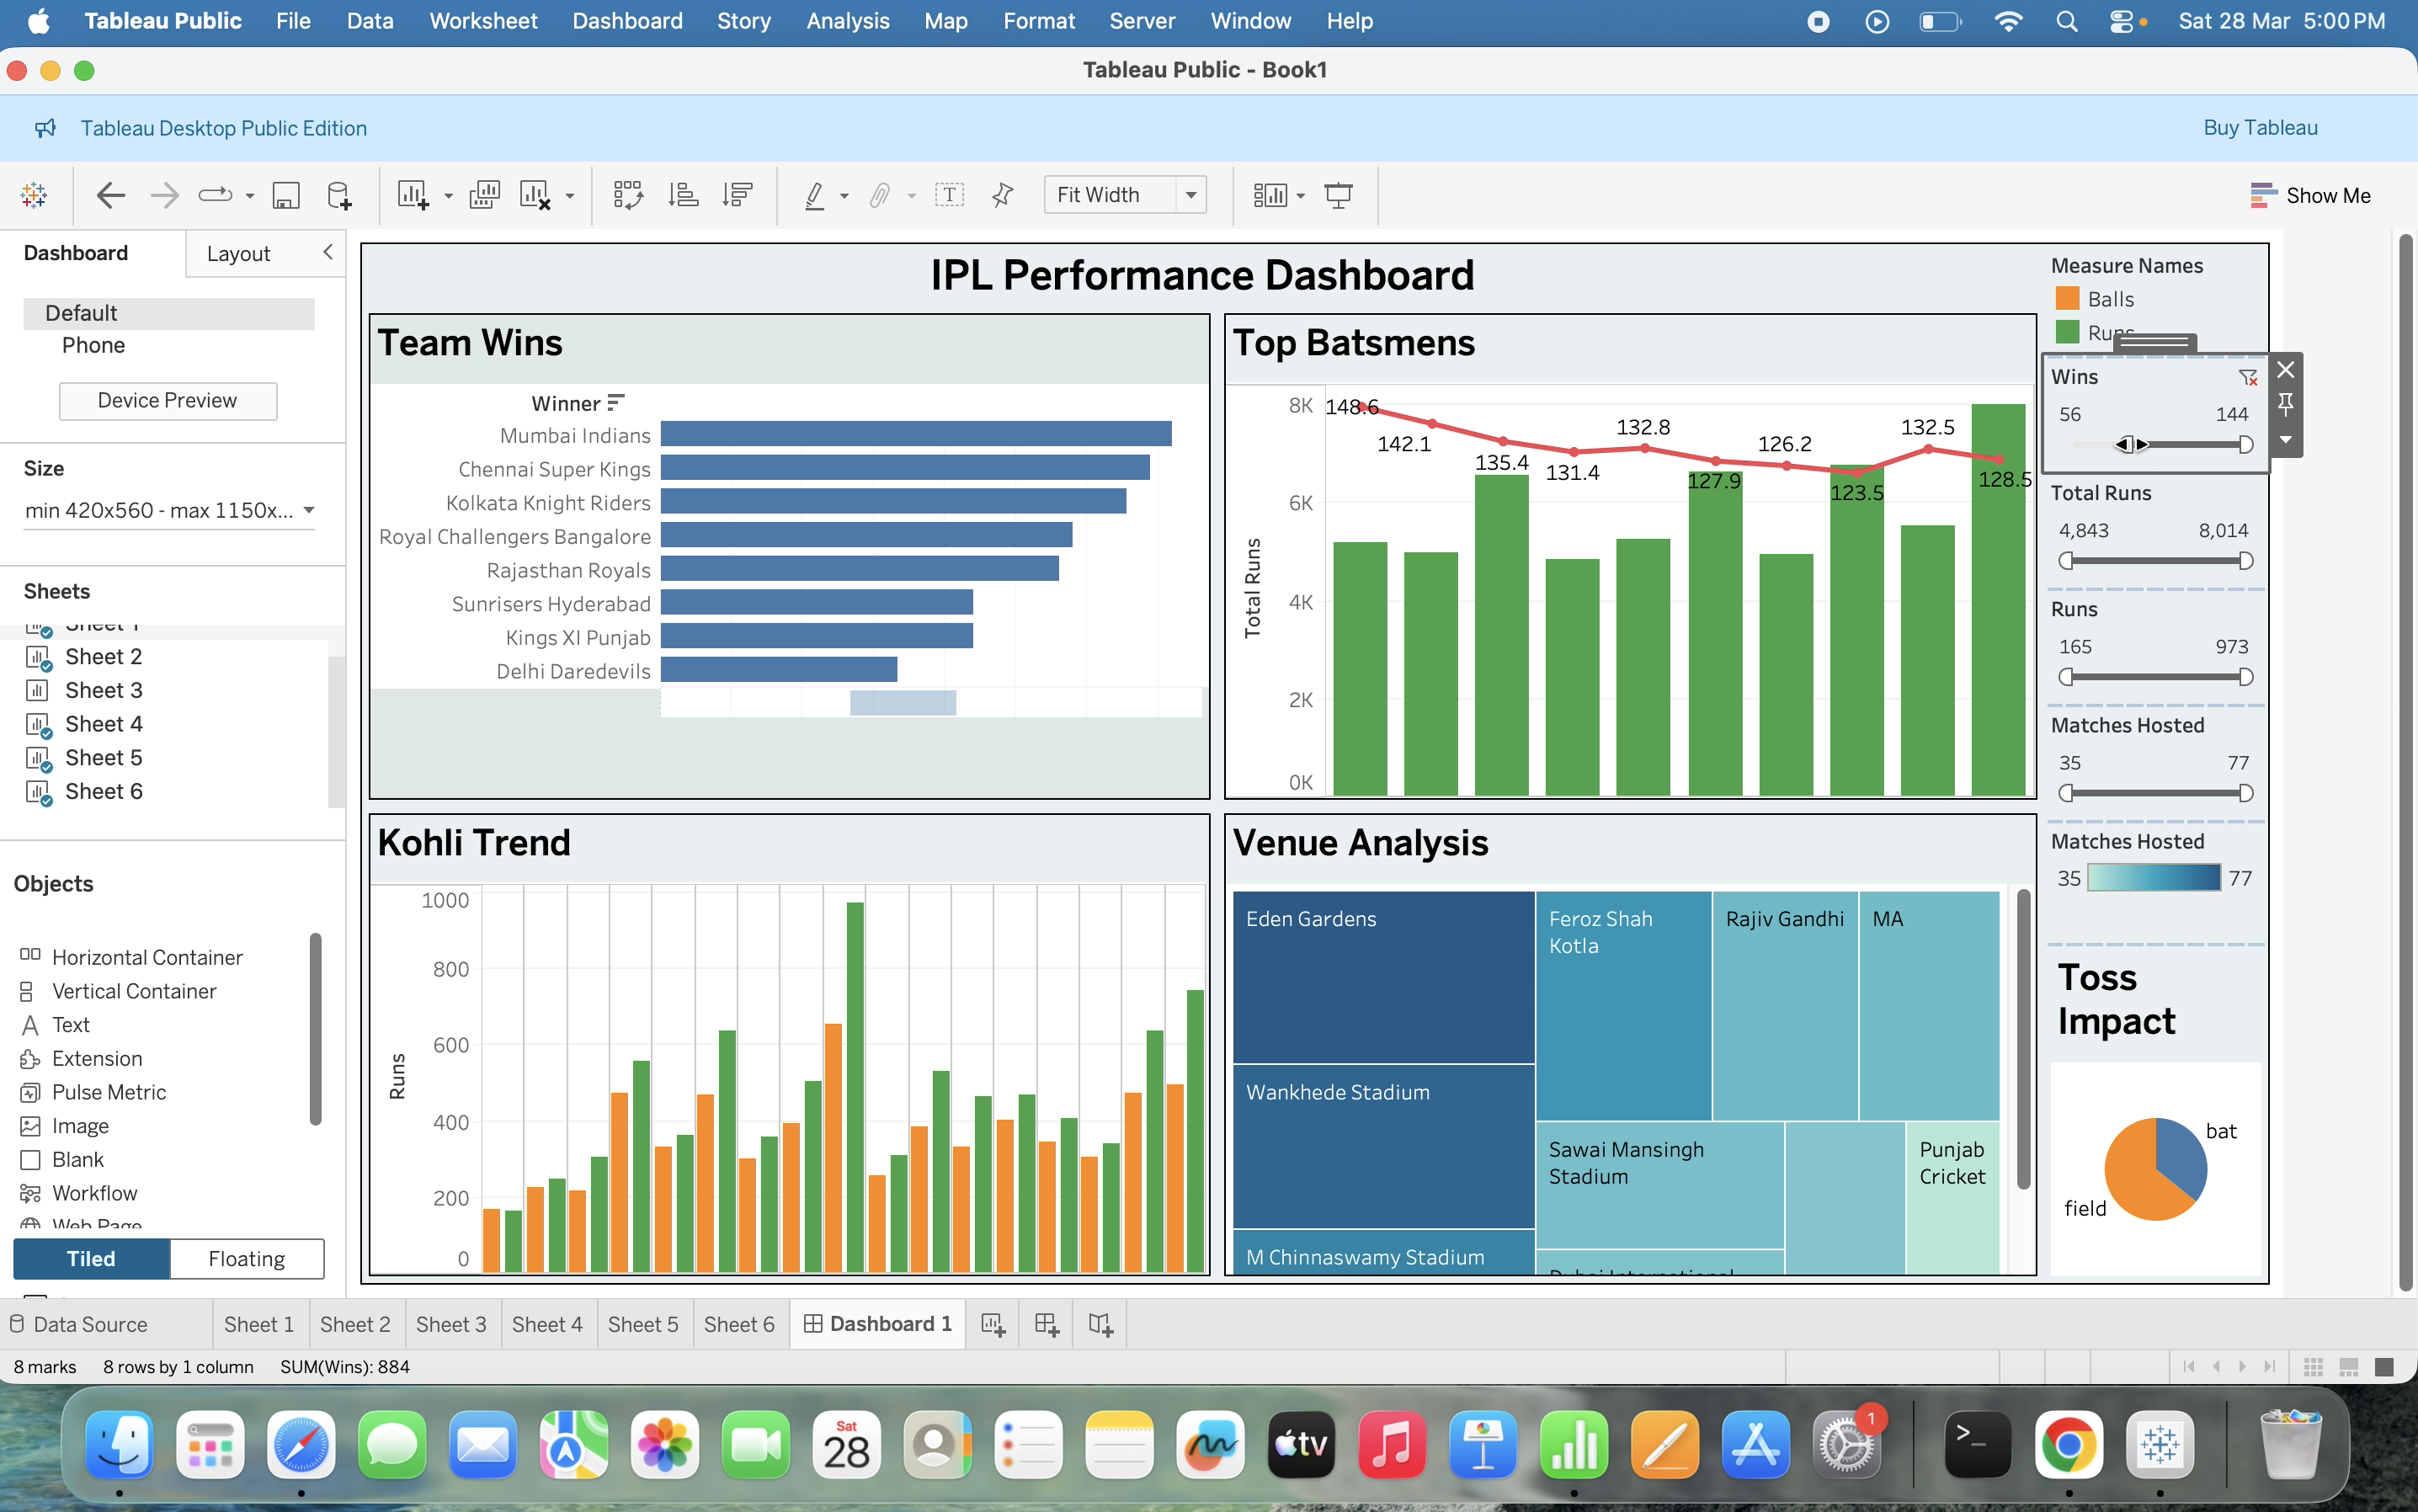

The dashboard page shown, as its layout file describes it:
{"tool":"tableau","page":{"name":"Dashboard 1","canvas":[1000,1000],"units":"permille","ordinal":0},"visuals":[{"type":"title","box":[7.8,14.2,868.7,58.3]},{"type":"legend","title":"Sheet 6","param":"[federated.0bimfkk01mglf811ac3yv0gxh3b0].[:Measure Names]","box":[876.5,14.2,115.7,103.9]},{"type":"worksheet","title":"Sheet 1","mark":"Automatic","rows":["winner"],"cols":["wins"],"box":[7.8,72.4,441.7,467]},{"type":"worksheet","title":"Sheet 2","mark":"Line","rows":["total_runs","strike_rate"],"cols":["batter"],"box":[449.6,72.4,426.9,467]},{"type":"filter","title":"Sheet 1","param":"[federated.1kl74b31bro5fc17v8ou11yq87nl].[sum:wins:qk]","box":[876.5,118.1,115.7,108.7]},{"type":"filter","title":"Sheet 2","param":"[federated.1em47xr1uiypal1bo13pj0qc9miz].[sum:total_runs:qk]","box":[876.5,226.8,115.7,108.7]},{"type":"filter","title":"Sheet 6","param":"[federated.0bimfkk01mglf811ac3yv0gxh3b0].[sum:runs:qk]","box":[876.5,335.4,115.7,108.7]},{"type":"filter","title":"Sheet 5","param":"[federated.1raz4lc0cwss4510kiev70dgc8u7].[sum:matches_hosted:qk]","box":[876.5,444.1,115.7,108.7]},{"type":"worksheet","title":"Sheet 6","mark":"Automatic","cols":["season"],"box":[7.8,539.5,441.7,446.4]},{"type":"worksheet","title":"Sheet 5","mark":"Automatic","box":[449.6,539.5,426.9,446.4]},{"type":"legend","title":"Sheet 5","param":"[federated.1raz4lc0cwss4510kiev70dgc8u7].[sum:matches_hosted:qk]","box":[876.5,552.8,115.7,115]},{"type":"worksheet","title":"Sheet 4","mark":"Pie","box":[876.5,667.7,115.7,318.1]}]}

Visuals, with their boxes on the dashboard's canvas, which has no fixed pixel size, in thousandths of its width and height (x1, y1, x2, y2). These are canvas units, not pixel positions in the 2418x1512 screenshot, which may show the page scaled, cropped or inside an application window:
title: l=8, t=14, r=876, b=72
"Sheet 6" legend: l=876, t=14, r=992, b=118
"Sheet 1" worksheet: l=8, t=72, r=450, b=539
"Sheet 2" worksheet (Line marks): l=450, t=72, r=876, b=539
"Sheet 1" filter: l=876, t=118, r=992, b=227
"Sheet 2" filter: l=876, t=227, r=992, b=336
"Sheet 6" filter: l=876, t=335, r=992, b=444
"Sheet 5" filter: l=876, t=444, r=992, b=553
"Sheet 6" worksheet: l=8, t=540, r=450, b=986
"Sheet 5" worksheet: l=450, t=540, r=876, b=986
"Sheet 5" legend: l=876, t=553, r=992, b=668
"Sheet 4" worksheet (Pie marks): l=876, t=668, r=992, b=986
